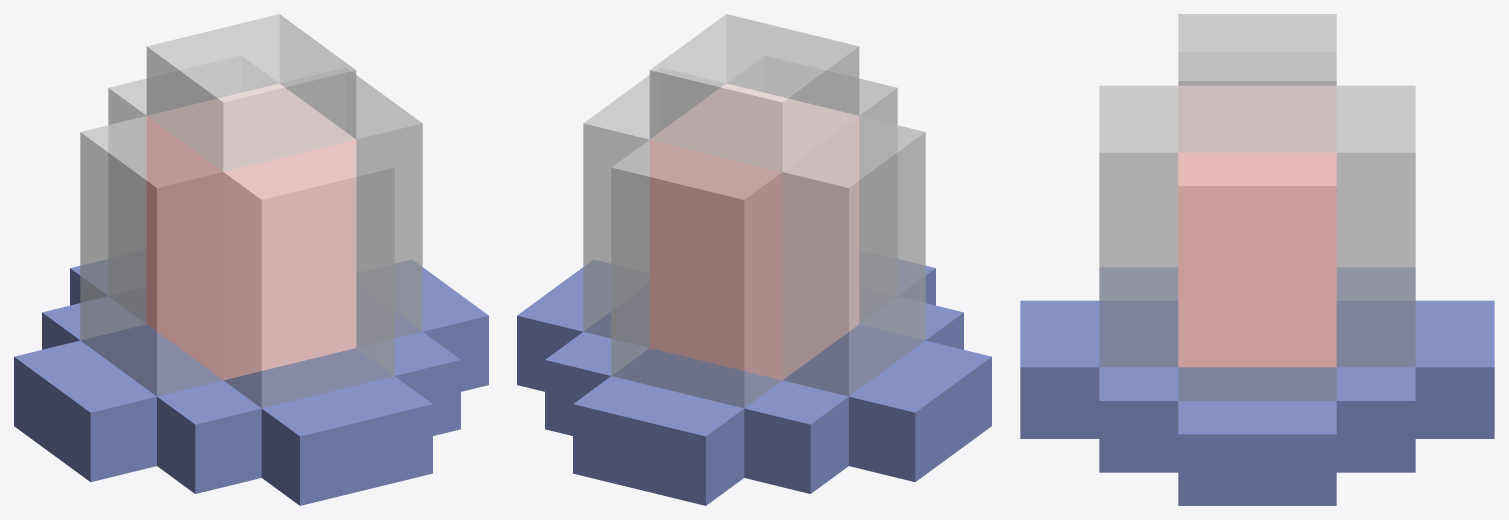
The model's file is LED.fbx.
The picture shows the model from 3 angles, left to right: view 1: azimuth 30°, elevation 25°; view 2: azimuth 150°, elevation 25°; view 3: azimuth 270°, elevation 25°; orthographic projection. The views are drawn at different scales.
Parts seen in each view (by area): view 1: Base LED, Cristal LED; view 2: Base LED, Cristal LED; view 3: Base LED, Cristal LED.
Part boxes in pixels (bbox=[...]): Base LED: bbox=[14, 83, 488, 505]; Cristal LED: bbox=[80, 14, 422, 408]; Base LED: bbox=[517, 83, 991, 505]; Cristal LED: bbox=[583, 14, 925, 408]; Base LED: bbox=[1020, 85, 1494, 505]; Cristal LED: bbox=[1099, 14, 1415, 400].
Size of the model in its own units: 60 by 50 by 60.
Materials: 3 (1 with a texture image).
